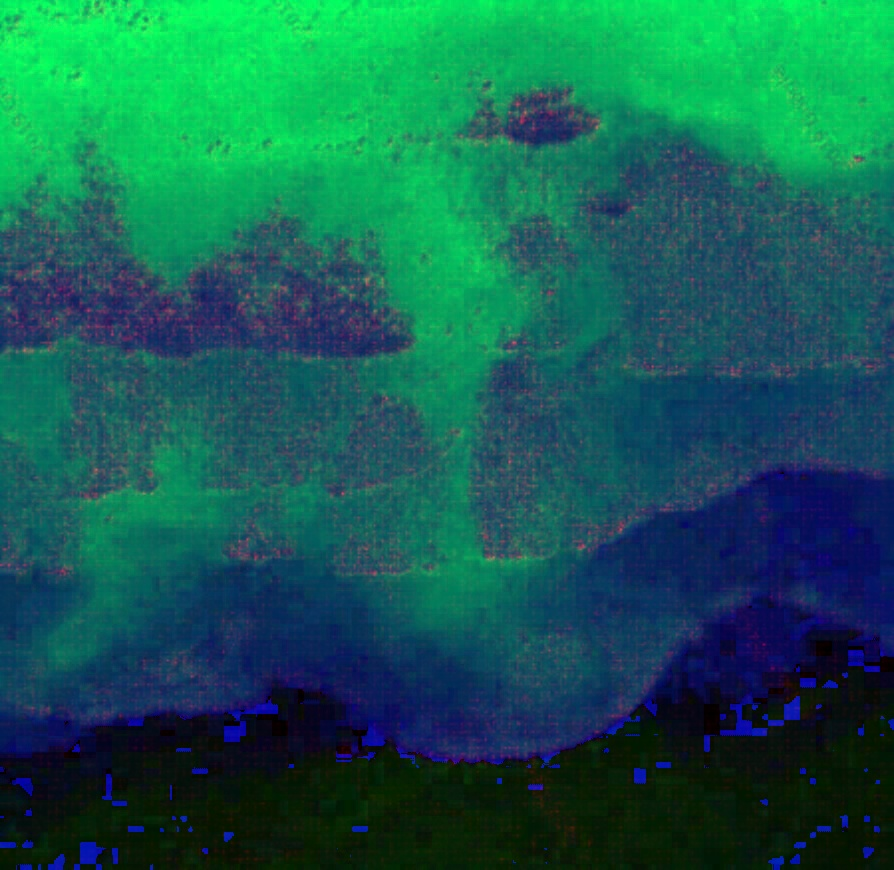rip_current: (322, 133, 581, 631)
